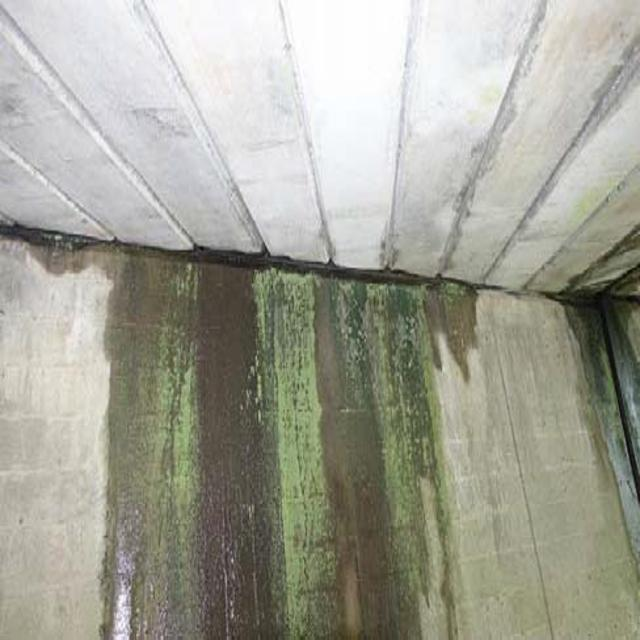leakage: (36, 214, 498, 640)
